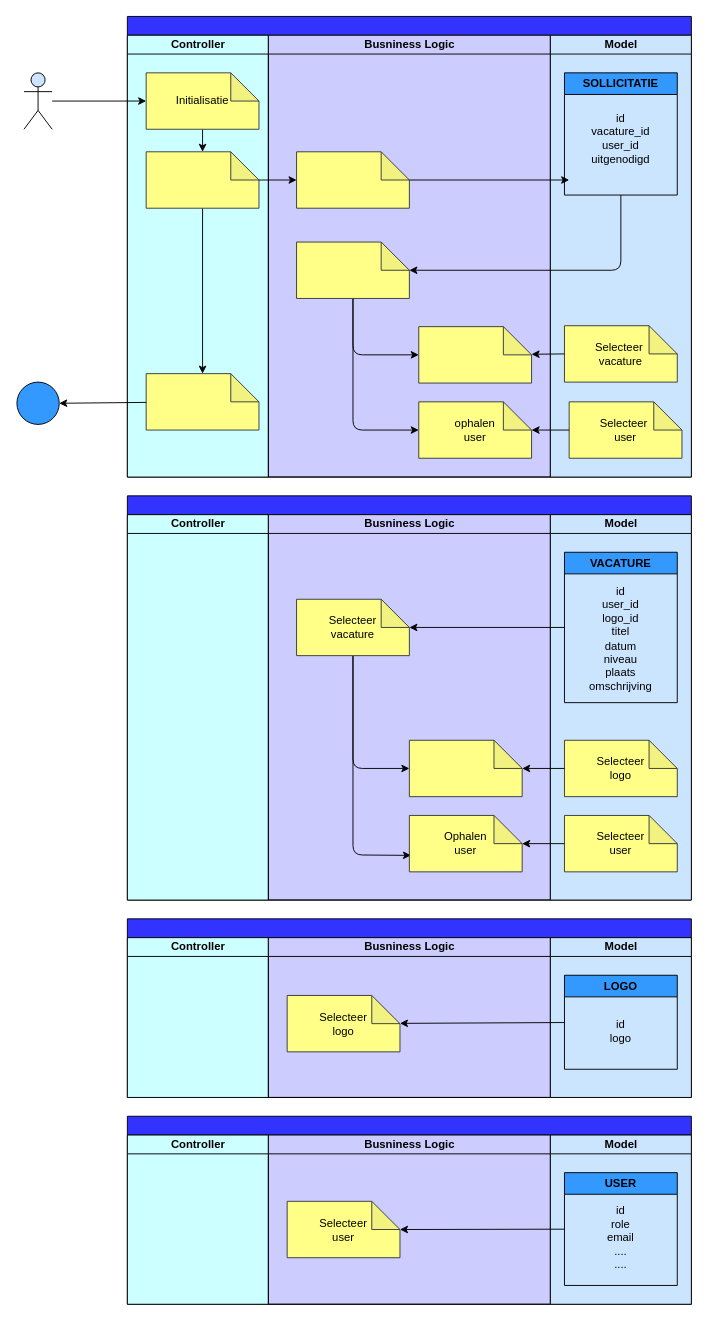
The diagram is 708 pixels wide and 1321 high, and some of its shapes have lost their labels. The centre of each missing label's shape, as x and y in pixels:
"Actor" belongs at point 37,100.
"bijwerken sollicitatie" belongs at point 352,179.
"kandidaat uitnodigen" belongs at point 202,179.
"Ophalen logo" belongs at point 465,768.
"ophalen vacature" belongs at point 475,354.
"Selecteer sollicitatie" belongs at point 352,269.
"sollicitatie tonen" belongs at point 202,401.
